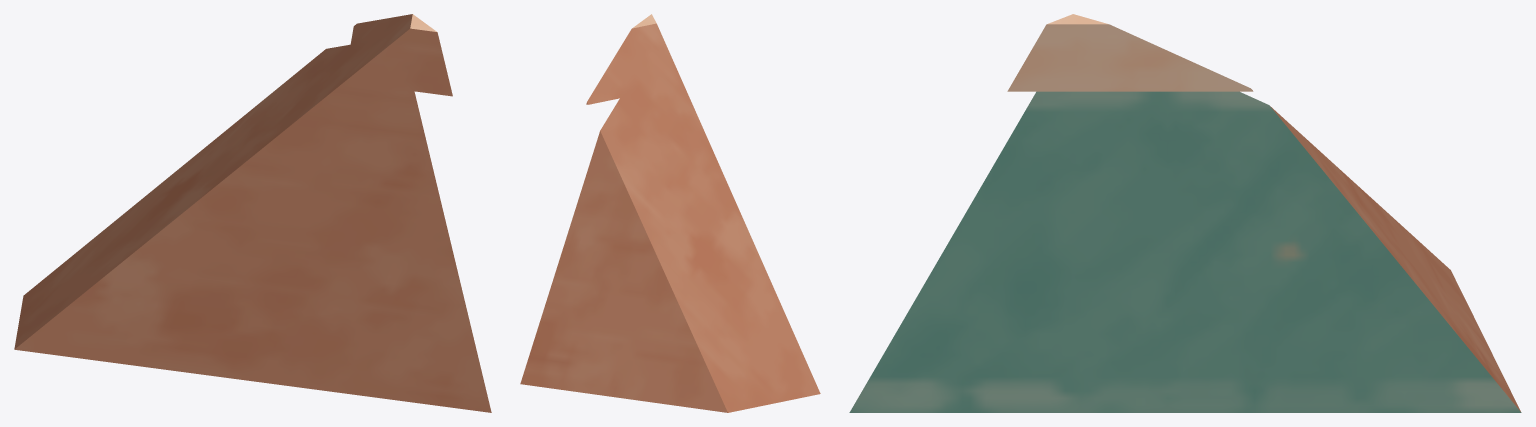
File: palm_bed_s01.fbx
3 views of the same model, side by side, from view 1: azimuth 30°, elevation 25°; view 2: azimuth 150°, elevation 25°; view 3: azimuth 270°, elevation 25° (orthographic). The views are drawn at different scales.
Parts seen in each view (by area): view 1: palm_bed_s01; view 2: palm_bed_s01; view 3: palm_bed_s01.
Boxes of the visible parts, bbox=[...] form: palm_bed_s01: bbox=[14, 14, 491, 412]; palm_bed_s01: bbox=[520, 14, 820, 412]; palm_bed_s01: bbox=[849, 14, 1521, 412].
Size of the model in its own units: 1.88 by 1.8 by 2.72.
